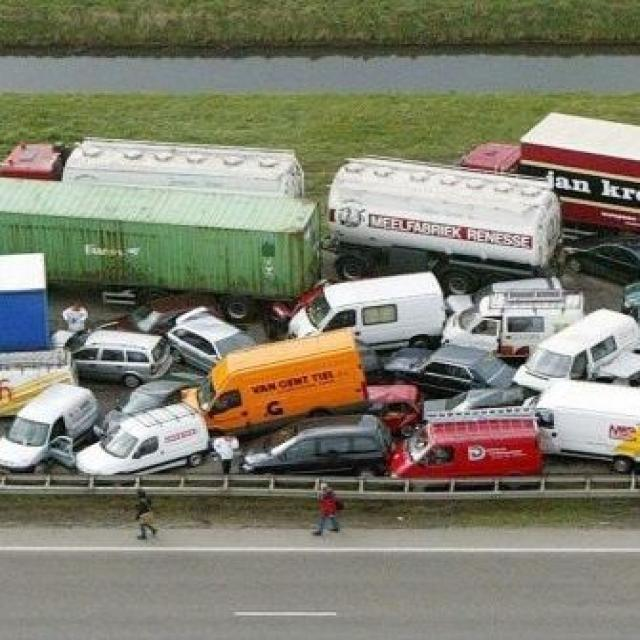traffic_incident: (13, 278, 627, 490)
